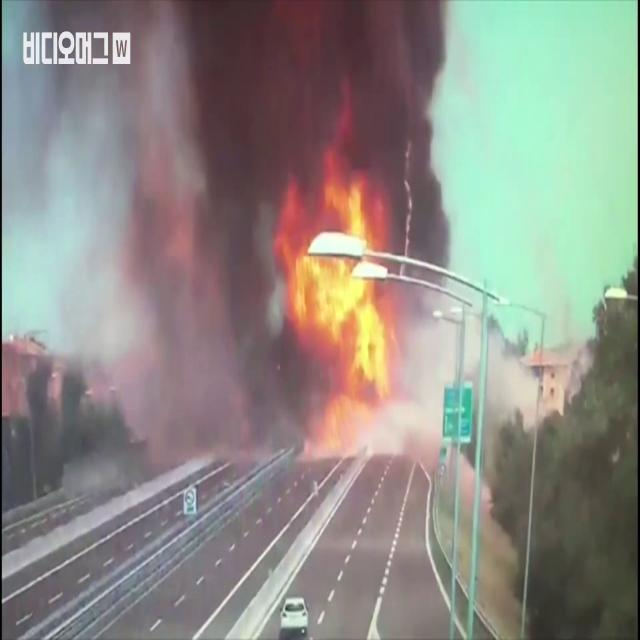explosion: (39, 0, 474, 556)
